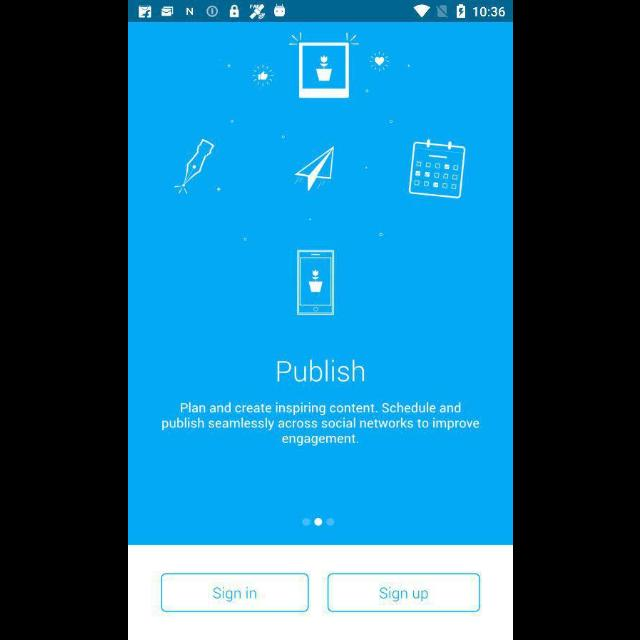image: (174, 30, 466, 314)
pageindicator: (301, 517, 335, 527)
text: (161, 402, 479, 448), (276, 359, 364, 383)
textbutton: (326, 573, 479, 613), (160, 574, 308, 612)
uppertaskbar: (128, 1, 512, 23)
